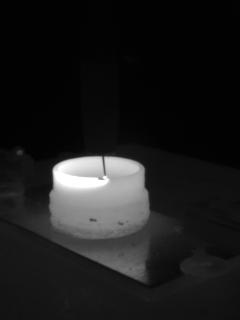tip_wire_left: (86, 150, 107, 179)
tip_wire_right: (103, 149, 118, 179)
